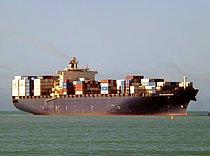Ship: (8, 54, 202, 121)
